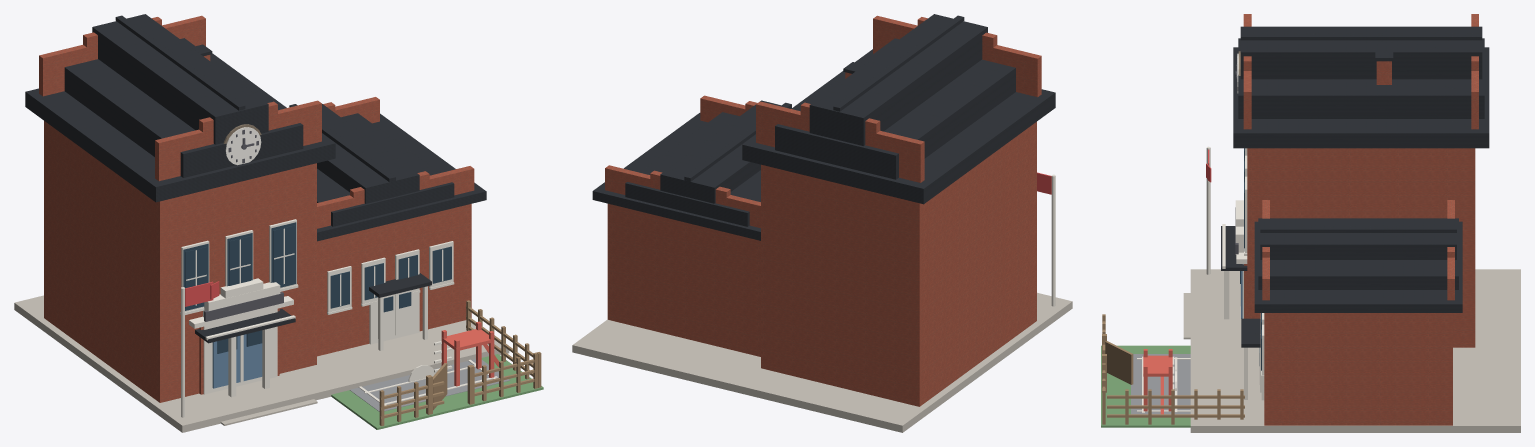
Rendered from school-primary.glb.
The picture shows the model from 3 angles, left to right: view 1: azimuth 30°, elevation 25°; view 2: azimuth 150°, elevation 25°; view 3: azimuth 270°, elevation 25°; orthographic projection. The views are drawn at different scales.
Visible parts, largest first — view 1: sch-hall-body, sch-plinth, sch-class-body, sch-hall-ridge, sch-hall-eaves, sch-hall-mid, sch-class-ridge, sch-class-mid, sch-class-eaves, sch-hall-gable-end-F, sch-yard-green, sch-hall-gable-end-B (+27 smaller); view 2: sch-hall-body, sch-class-body, sch-plinth, sch-hall-ridge, sch-hall-mid, sch-hall-eaves, sch-class-ridge, sch-class-mid, sch-class-eaves, sch-hall-gable-end-B, sch-hall-gable-end-F, sch-class-gable-end-B (+5 smaller); view 3: sch-class-body, sch-plinth, sch-hall-body, sch-hall-ridge, sch-hall-mid, sch-hall-eaves, sch-class-ridge, sch-class-mid, sch-class-eaves, sch-yard-green, sch-yard-hardplay, sch-hall-ridge-bar (+13 smaller).
Boxes of the visible parts, x1,y1,x2,y2 form: sch-hall-body: [44, 121, 316, 402]; sch-plinth: [14, 295, 509, 432]; sch-class-body: [317, 204, 471, 356]; sch-hall-ridge: [92, 14, 268, 144]; sch-hall-eaves: [25, 53, 335, 202]; sch-hall-mid: [64, 38, 303, 177]; sch-class-ridge: [317, 104, 419, 203]; sch-class-mid: [317, 113, 454, 226]; sch-class-eaves: [317, 113, 486, 241]; sch-hall-gable-end-F: [155, 100, 321, 181]; sch-yard-green: [331, 354, 543, 429]; sch-hall-gable-end-B: [39, 15, 205, 96]; sch-hall-body: [761, 122, 1036, 406]; sch-class-body: [607, 203, 760, 356]; sch-plinth: [572, 292, 1072, 432]; sch-hall-ridge: [809, 14, 987, 145]; sch-hall-mid: [775, 38, 1015, 179]; sch-hall-eaves: [742, 49, 1055, 204]; sch-class-ridge: [660, 100, 791, 203]; sch-class-mid: [625, 112, 760, 226]; sch-class-eaves: [592, 113, 760, 240]; sch-hall-gable-end-B: [756, 101, 924, 182]; sch-hall-gable-end-F: [873, 15, 1041, 97]; sch-class-gable-end-B: [605, 165, 760, 227]; sch-class-body: [1264, 313, 1452, 425]; sch-plinth: [1190, 269, 1520, 432]; sch-hall-body: [1247, 148, 1475, 347]; sch-hall-ridge: [1240, 26, 1482, 79]; sch-hall-mid: [1238, 38, 1484, 118]; sch-hall-eaves: [1233, 47, 1489, 148]; sch-class-ridge: [1260, 218, 1456, 259]; sch-class-mid: [1258, 218, 1458, 289]; sch-class-eaves: [1254, 221, 1462, 312]; sch-yard-green: [1101, 345, 1190, 427]; sch-yard-hardplay: [1131, 354, 1190, 414]; sch-hall-ridge-bar: [1240, 33, 1482, 40].
Bounding box in the file's own units: 13.92 × 11.64 × 15.11.
14 materials, 2 textured.
